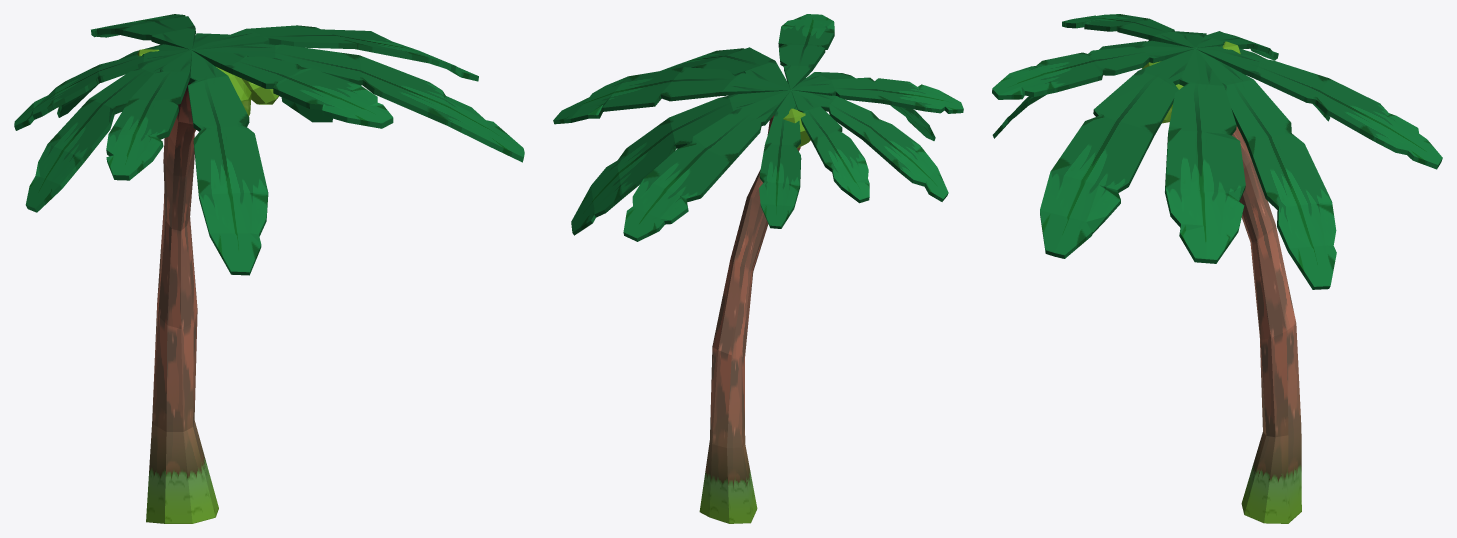
The model's file is TreeTexture.fbx.
3 renders of one model, left to right at view 1: azimuth 30°, elevation 25°; view 2: azimuth 150°, elevation 25°; view 3: azimuth 270°, elevation 25°, orthographic. The views are drawn at different scales.
Visible parts, largest first — view 1: Tree_1; view 2: Tree_1; view 3: Tree_1.
Boxes of the visible parts, x1=… form: Tree_1: x1=14, y1=14, x2=524, y2=523; Tree_1: x1=553, y1=14, x2=963, y2=523; Tree_1: x1=992, y1=14, x2=1442, y2=523.
Size of the model in its own units: 51.96 by 54.71 by 49.08.
Materials: 3 (3 with a texture image).
